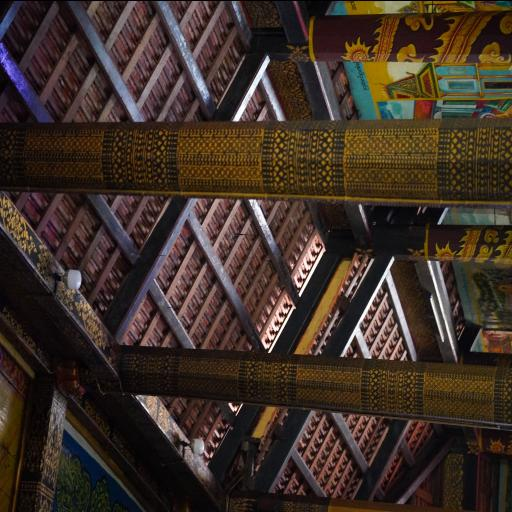la: (474, 244, 495, 266), (484, 225, 500, 242)
